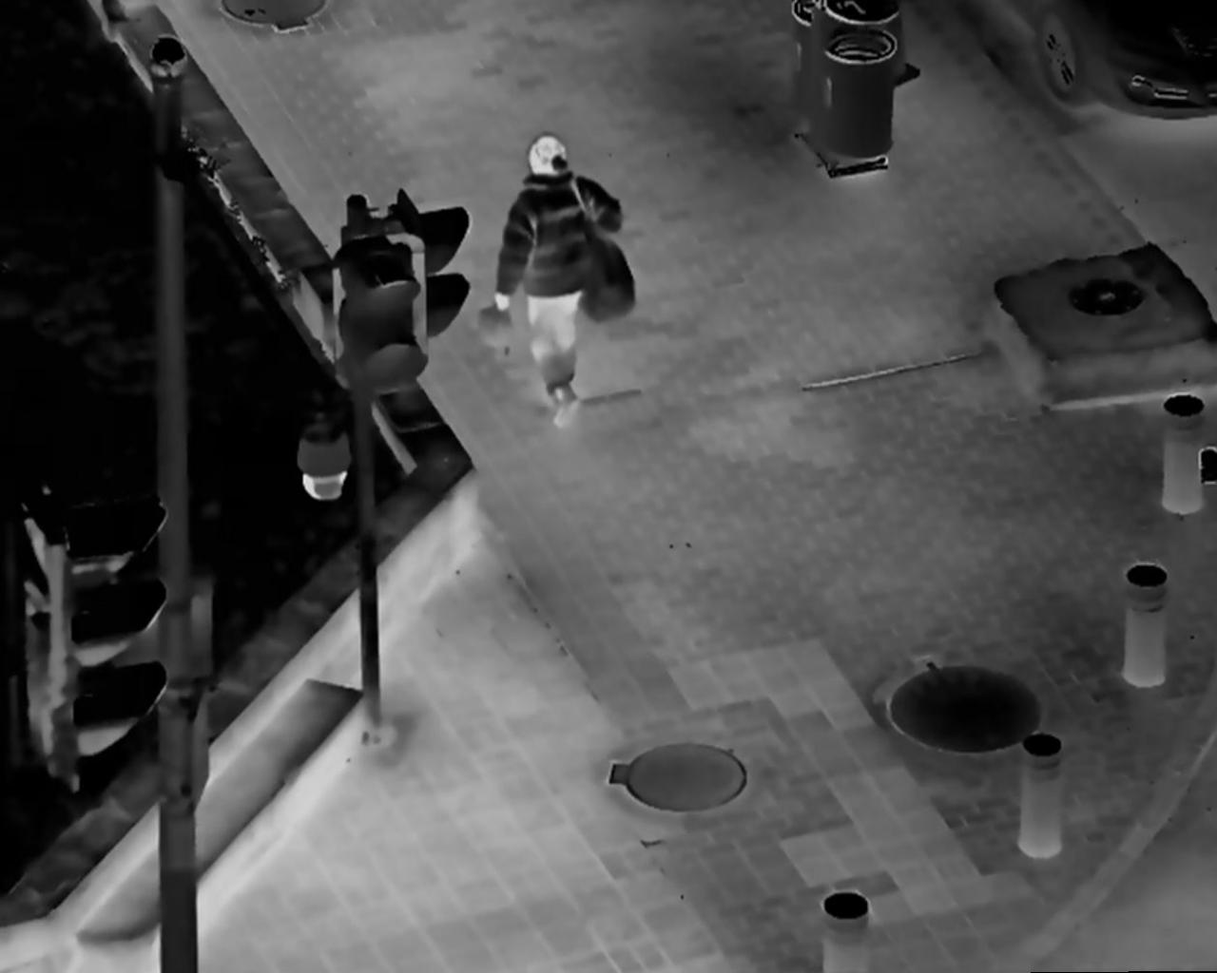person: (482, 132, 639, 436)
